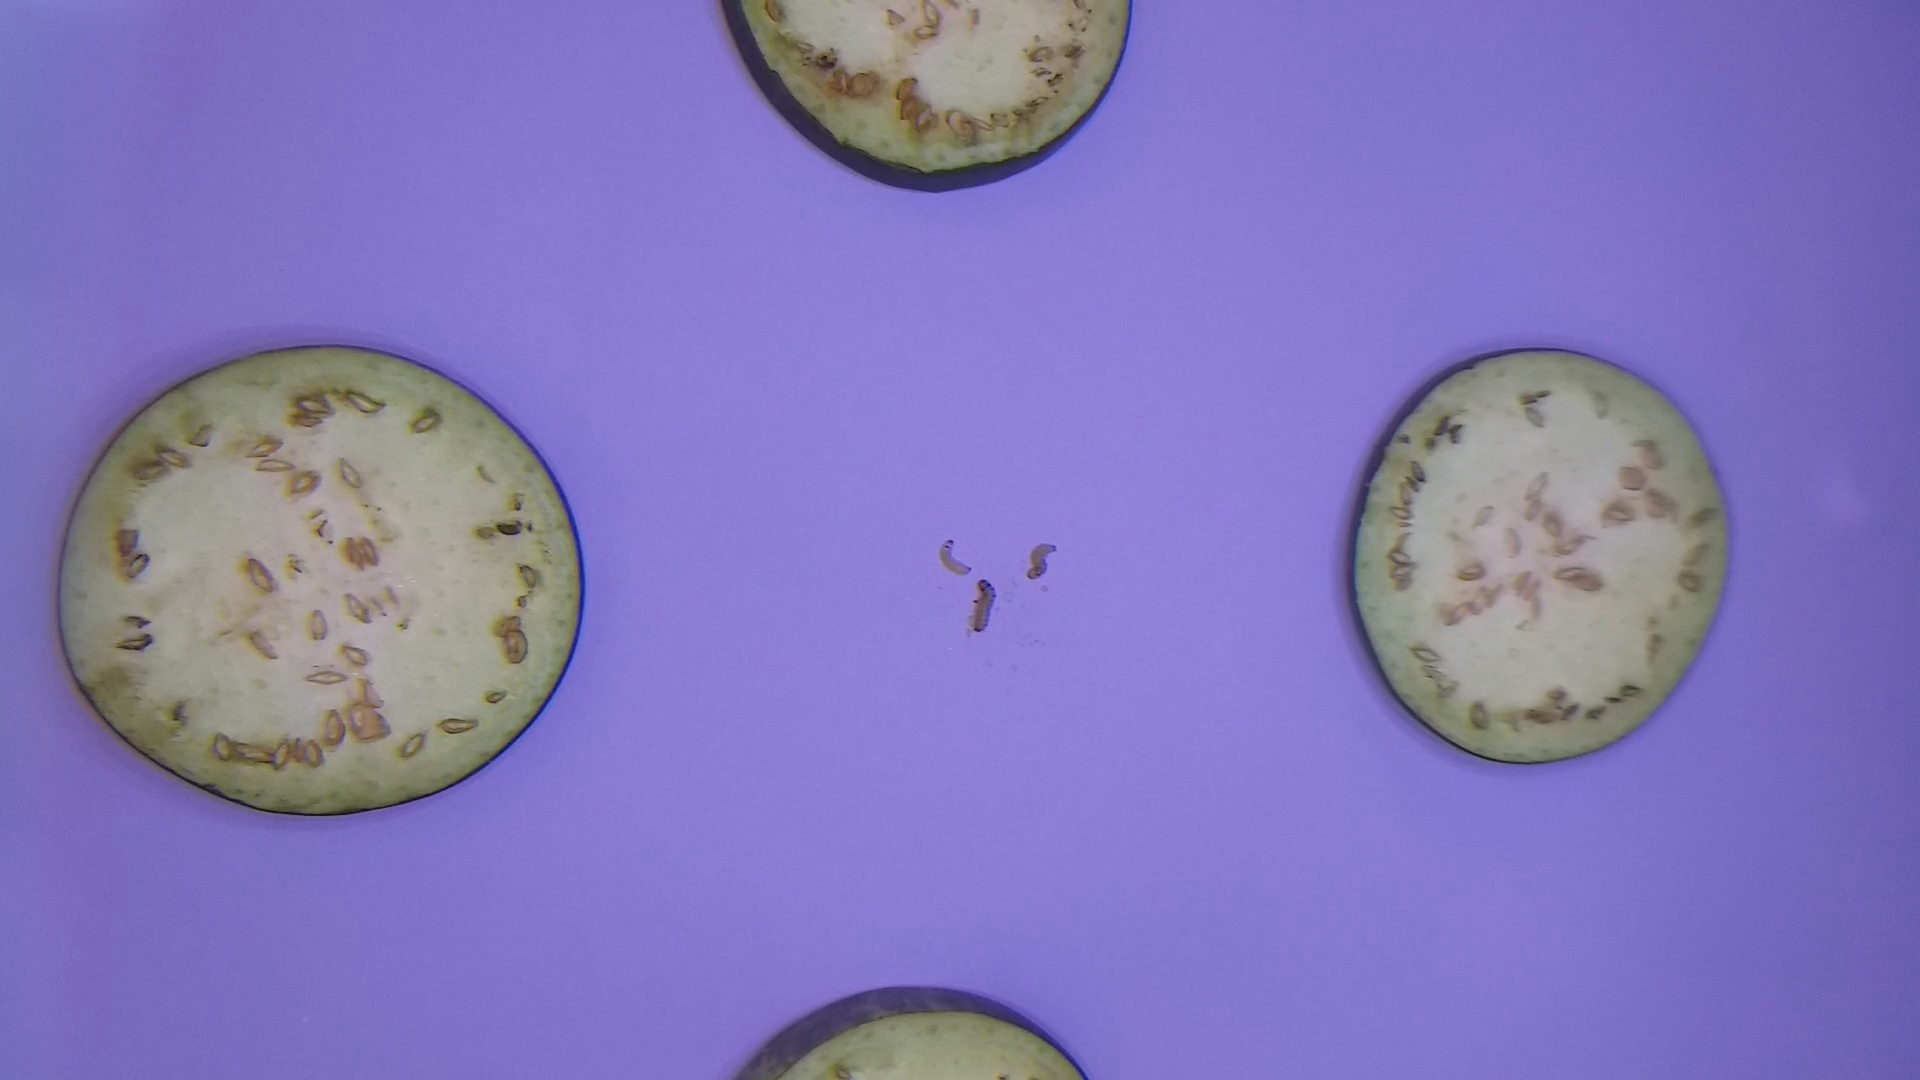efsb: (928, 531, 976, 582), (1019, 535, 1064, 585), (967, 576, 1001, 641)
eggplant: (47, 331, 592, 825), (1329, 338, 1745, 779), (717, 1, 1146, 202), (712, 980, 1100, 1080)
